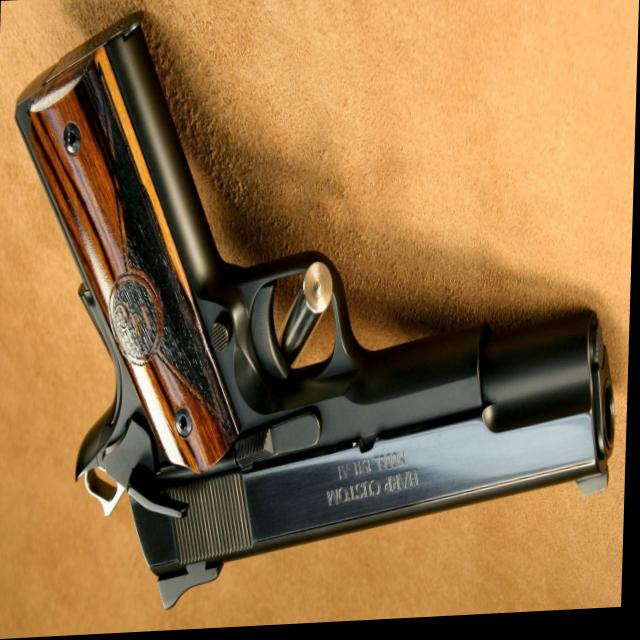handgun: (2, 0, 627, 617)
